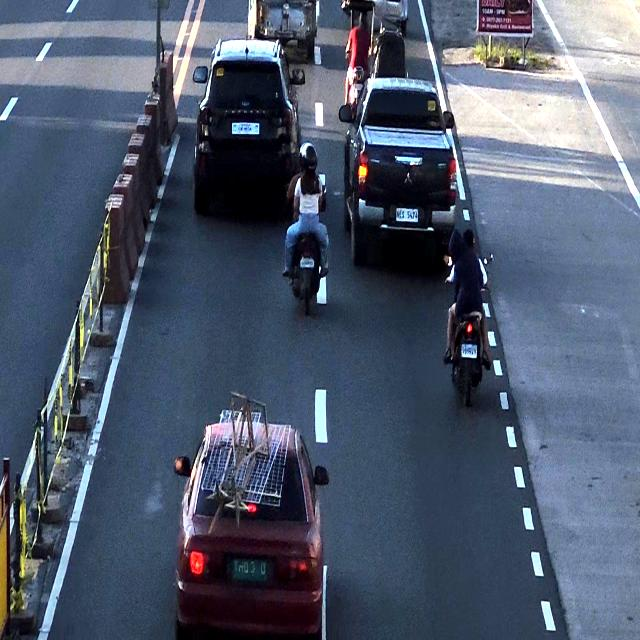Car: (173, 401, 328, 640), (187, 35, 290, 209), (348, 80, 452, 248)
License-Plate: (230, 556, 274, 588), (392, 204, 424, 228), (229, 121, 262, 136), (461, 341, 478, 362), (300, 256, 319, 272)
Motorcycle: (445, 224, 489, 398), (288, 136, 324, 314)
Tricycle: (343, 0, 414, 82)
